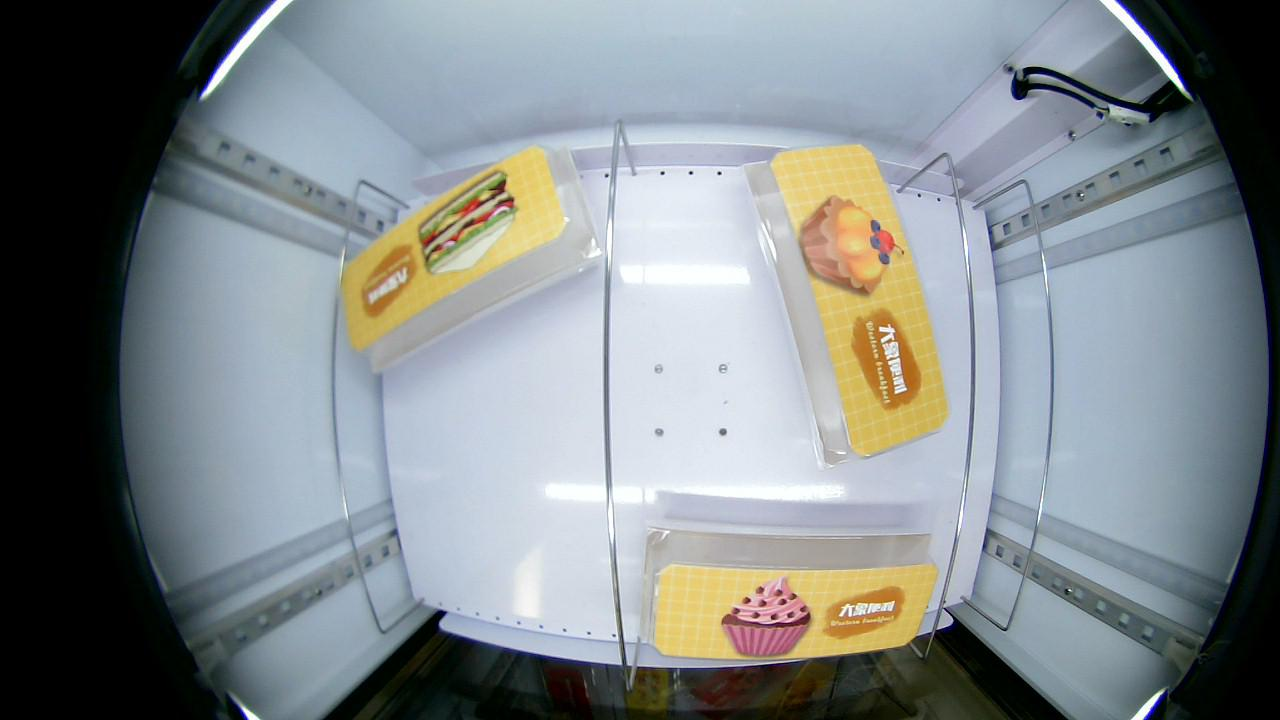goods: (793, 193, 906, 296), (416, 164, 519, 275), (718, 573, 820, 658)
